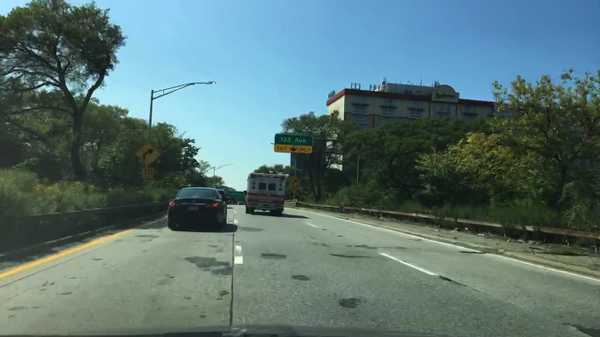car: (167, 186, 227, 231), (218, 189, 227, 206), (227, 199, 234, 206), (237, 201, 244, 205)
traffic sign: (274, 134, 313, 153), (134, 144, 162, 166), (141, 168, 154, 178), (226, 191, 243, 198), (291, 179, 299, 187), (292, 187, 297, 192)
truck: (242, 174, 287, 215)
